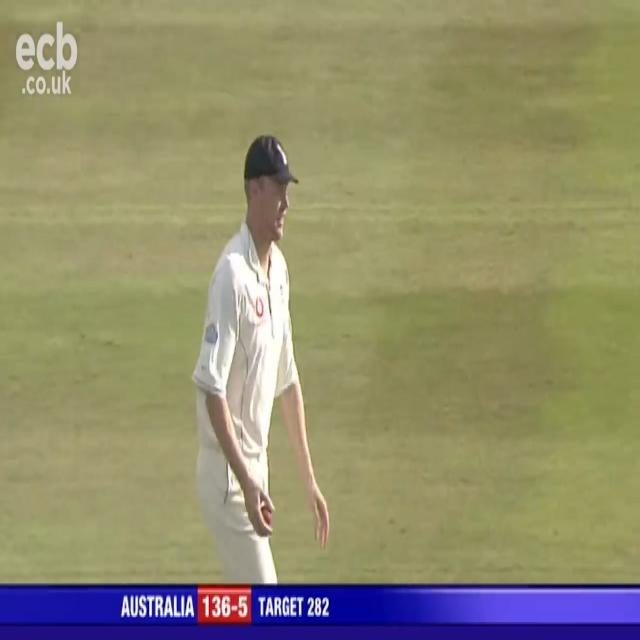ball: (259, 502, 275, 529)
